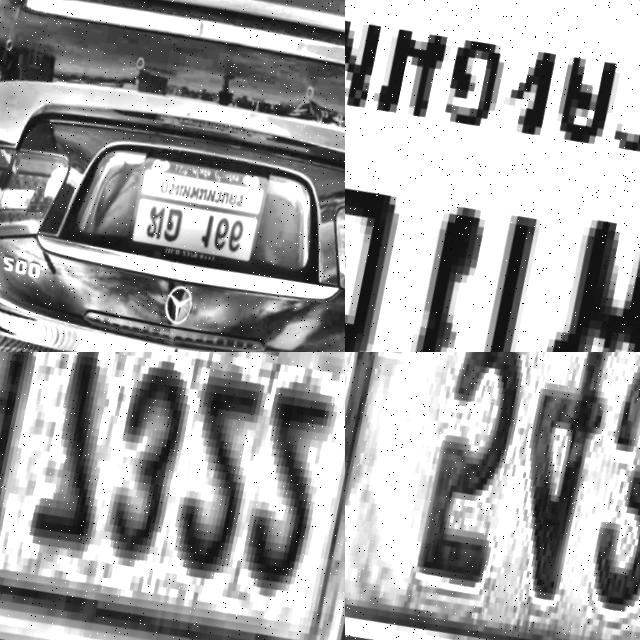license-plate: (345, 0, 640, 352), (0, 352, 345, 640), (345, 352, 640, 640), (118, 147, 269, 289)
